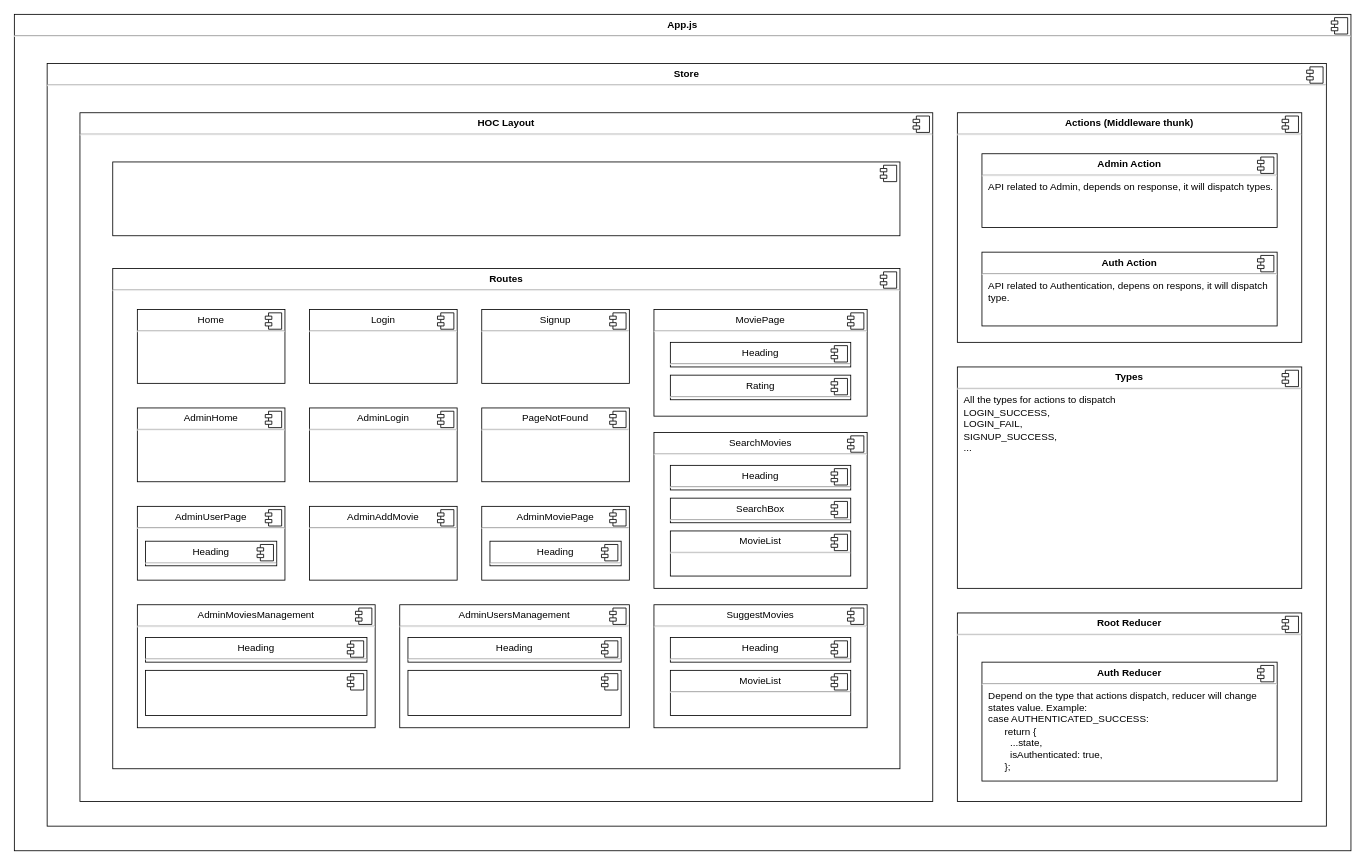
The diagram is 1365 pixels wide and 865 high, and some of its shapes have lost their labels. The centre of each missing label's shape, as x and y in pixels:
AdminMoviesList: point 256,692
AdminUsersList: point 514,692
Navbar: point 506,198
